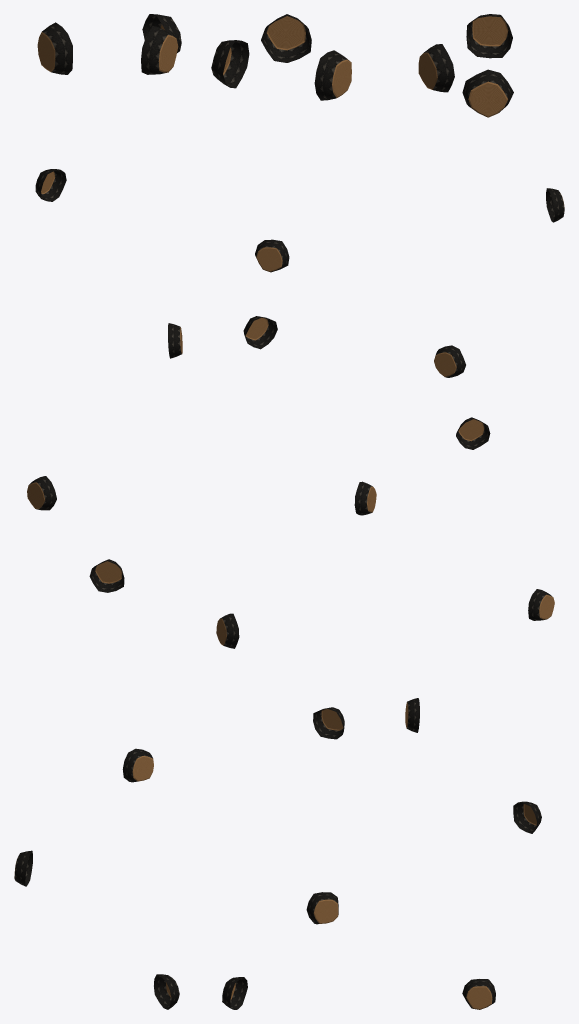
Rendered from Sitka_OldLarge_02_LowPruned_Recent_LOD1.fbx.
The picture shows the model from 3 angles, left to right: view 1: azimuth 30°, elevation 25°; view 2: azimuth 150°, elevation 25°; view 3: azimuth 270°, elevation 25°; orthographic projection. The views are drawn at different scales.
Parts seen in each view (by area): view 1: Sitka_OldLarge_02_LowPruned_Recent_LOD1_Scars; view 2: Sitka_OldLarge_02_LowPruned_Recent_LOD1_Scars; view 3: Sitka_OldLarge_02_LowPruned_Recent_LOD1_Scars.
Part boxes in pixels (bbox=[...]): Sitka_OldLarge_02_LowPruned_Recent_LOD1_Scars: bbox=[14, 14, 182, 1009]; Sitka_OldLarge_02_LowPruned_Recent_LOD1_Scars: bbox=[211, 14, 376, 1009]; Sitka_OldLarge_02_LowPruned_Recent_LOD1_Scars: bbox=[405, 14, 564, 1009].
Size of what is drawn, in the model's own units: 69.58 by 453 by 68.93.
2 materials, 2 textured.
